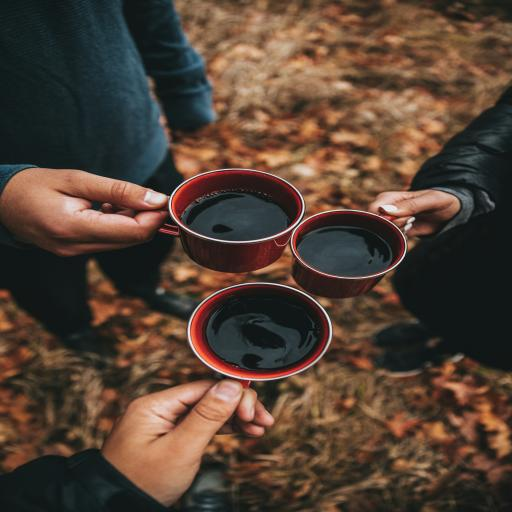cup: (158, 169, 306, 273), (188, 282, 333, 388), (292, 210, 406, 298)
